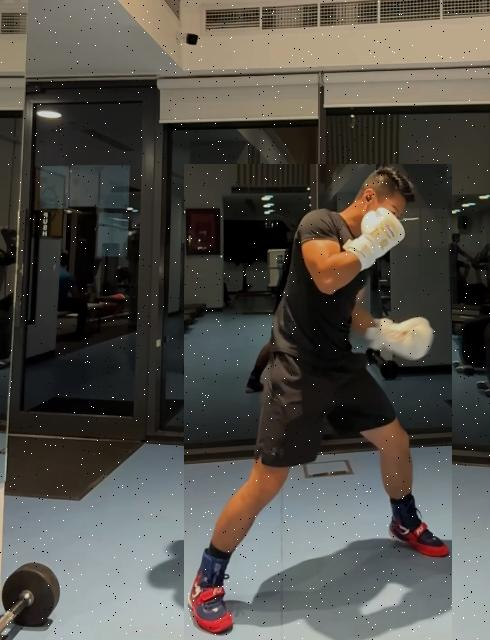punch: (184, 164, 452, 640)
